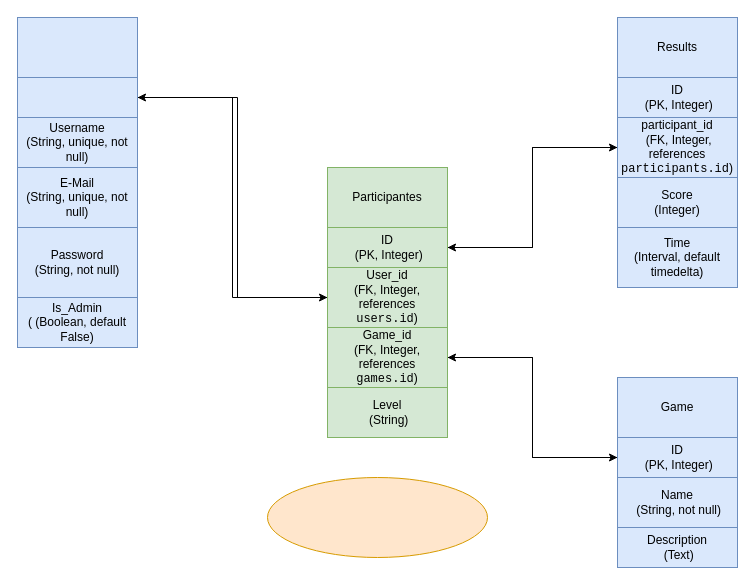
This 755x585 diagram has some shape labels left out. Here are the shapes that lost their labels. From the top down, the centre of each, then its label:
At pixel 77 47: "User".
At pixel 77 97: "ID (PK, integrer)".
At pixel 377 517: "PK -> Principal key FK -> Foranean Key".
